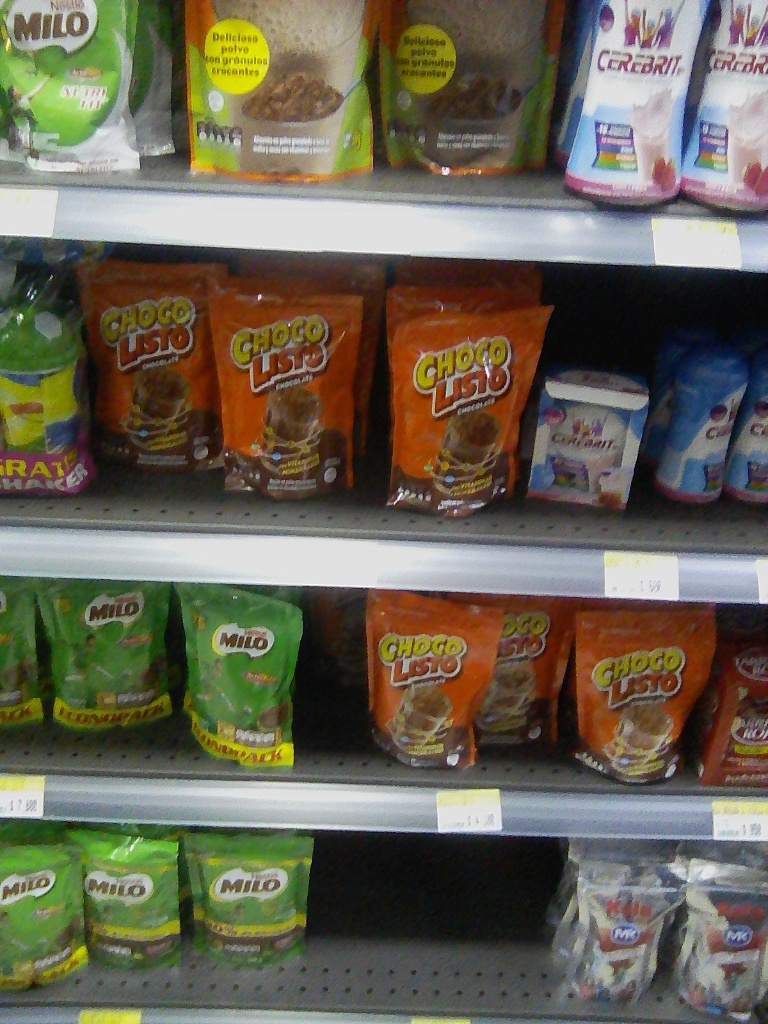COL0170203DYP25000: (173, 585, 305, 768)
COL0170205DYP20000: (1, 1, 144, 170)
